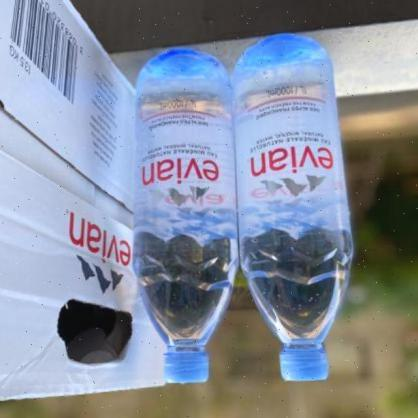bottle: (233, 23, 367, 392), (119, 21, 248, 392)
cap: (274, 340, 333, 384), (158, 346, 211, 386)
label: (233, 77, 356, 233), (124, 92, 243, 238)
